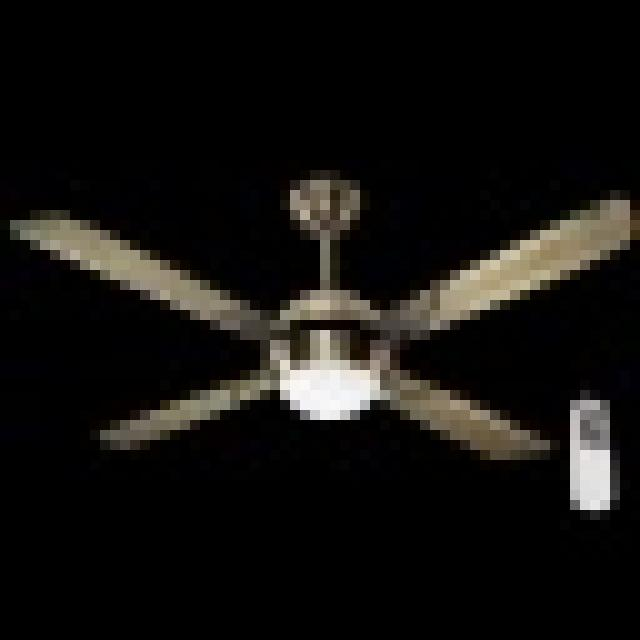Bulb: (27, 162, 621, 473)
